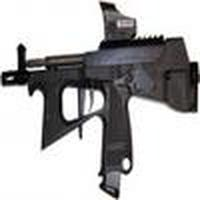gun: (2, 2, 200, 149)
